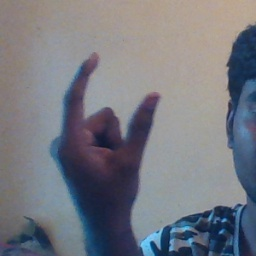U: (46, 50, 168, 202)
